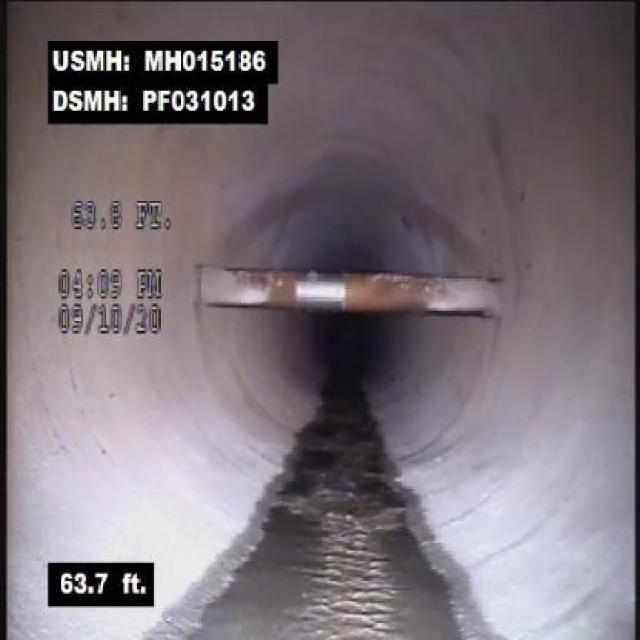Utility intrusion: (192, 260, 505, 325)
